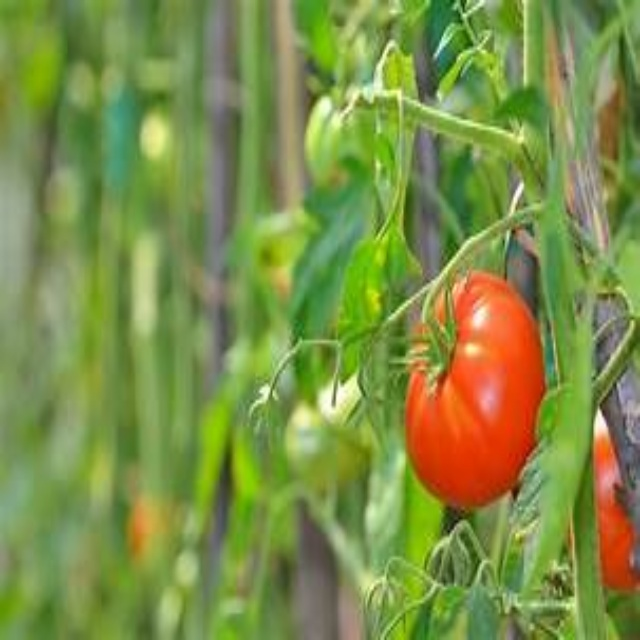tomato: (399, 270, 543, 513), (560, 413, 639, 606)
